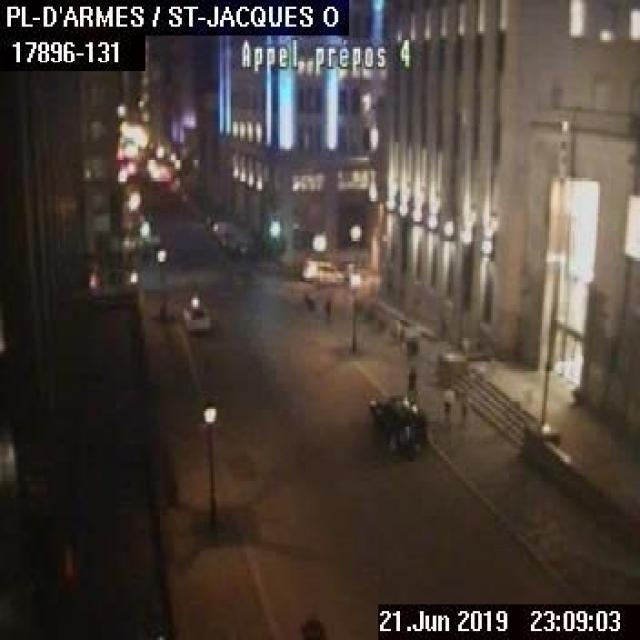pedestrian: (440, 387, 451, 422), (404, 364, 414, 396), (458, 391, 467, 422)
vehicle: (366, 392, 426, 451), (180, 294, 209, 332), (86, 266, 138, 286), (299, 257, 342, 281), (224, 232, 253, 256)
